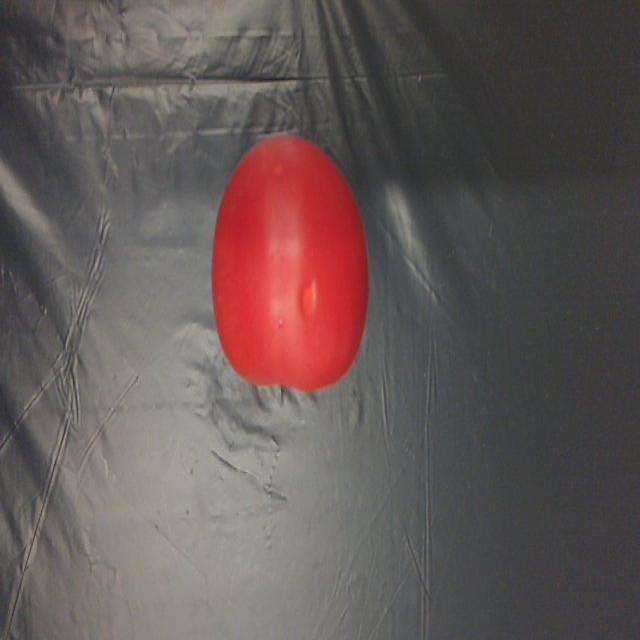kirmizi: (212, 128, 368, 412)
